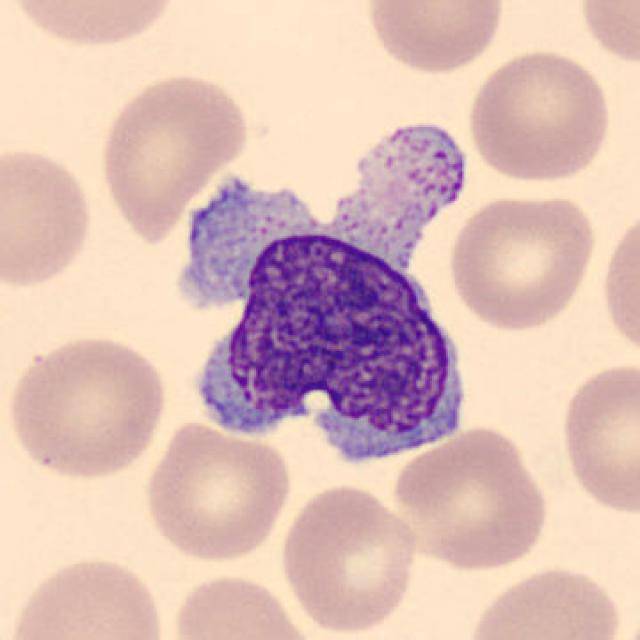Monocyte: (173, 120, 477, 474)
RBC: (95, 67, 252, 243), (2, 331, 170, 485), (387, 423, 553, 573), (139, 418, 293, 564), (276, 482, 422, 636), (443, 189, 599, 333), (464, 44, 615, 187), (0, 141, 98, 293), (6, 552, 172, 640), (555, 358, 638, 518), (460, 560, 625, 640), (362, 0, 508, 76), (167, 569, 320, 640), (3, 0, 185, 51), (595, 201, 640, 366), (574, 0, 640, 71)
